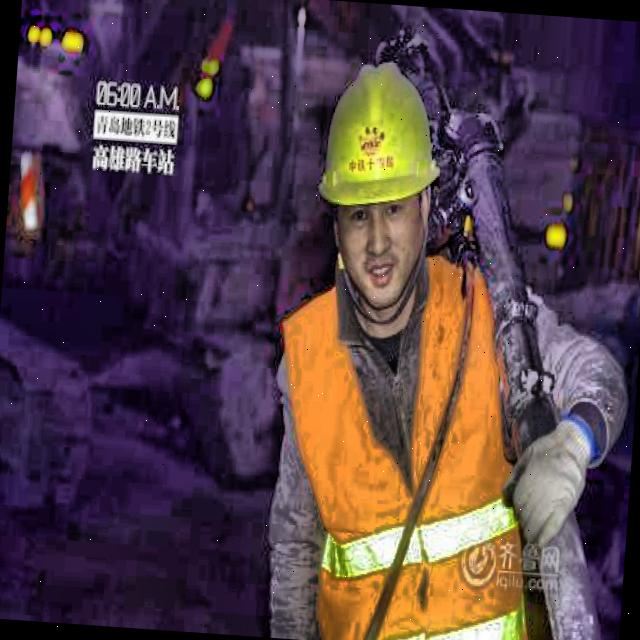helmet: (300, 40, 450, 329)
